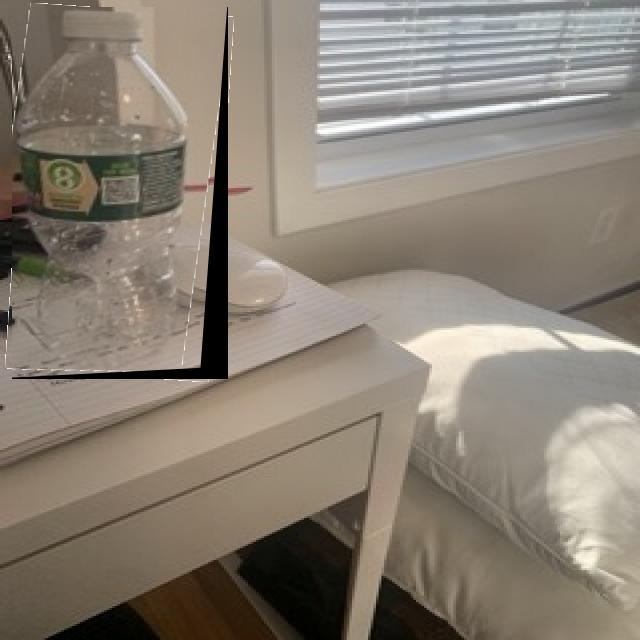water_bottle: (12, 7, 228, 379)
